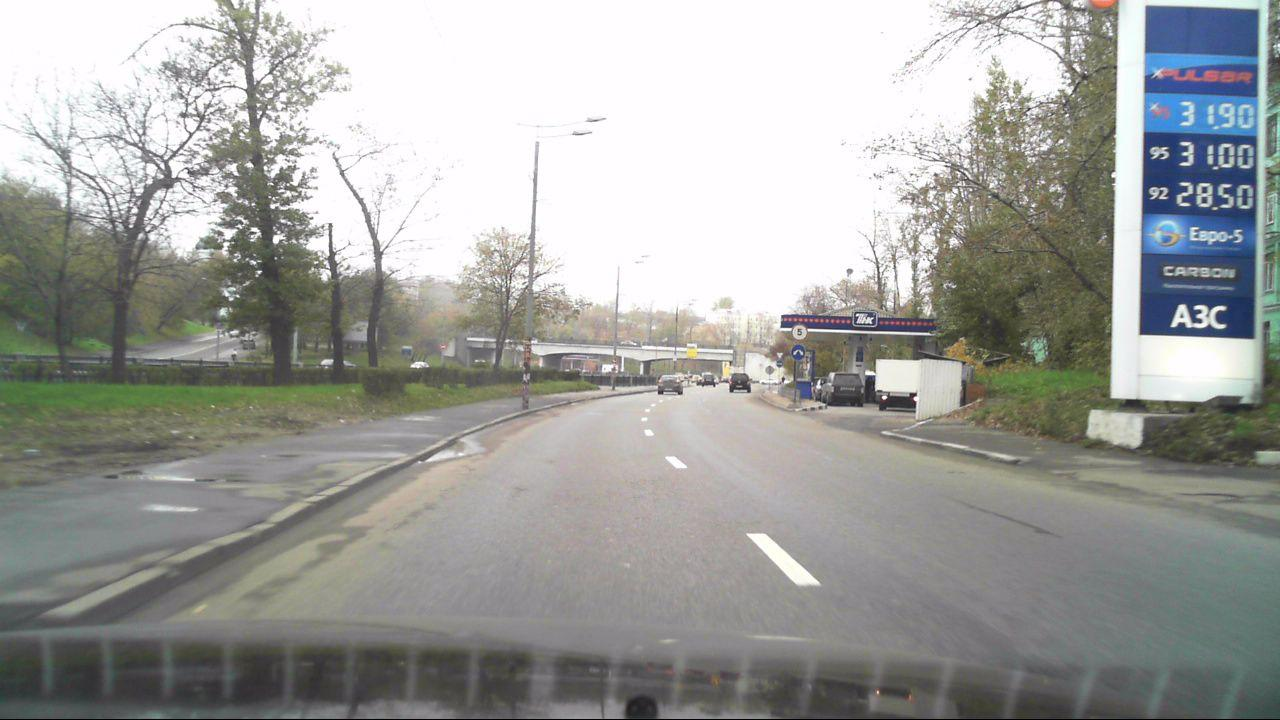road_sign: (791, 324, 807, 340), (791, 344, 806, 361)
